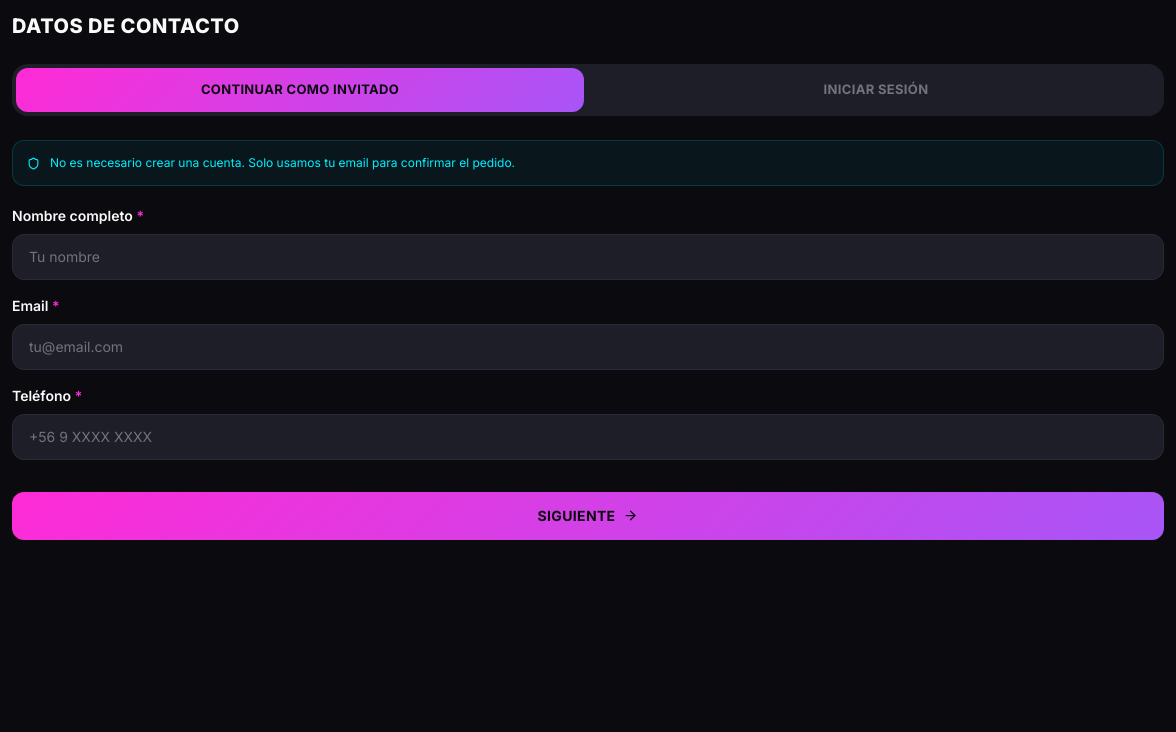
Test case: StepData (composed Data step) › returns from the address form to the contact form via Atrás
The image size is (1176, 732).
Type "Juan Pérez" into the field labelled "Nombre completo *" at (588, 256), box [12,234,1164,280]
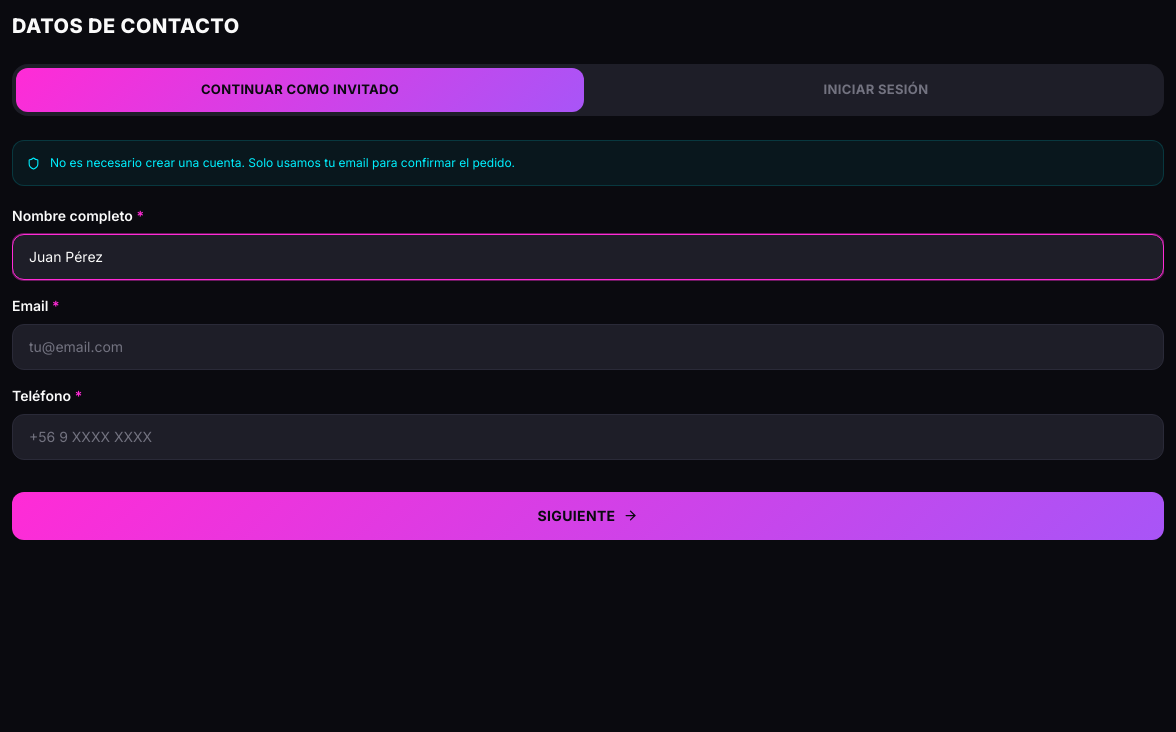
Type "juan@example.com" into the field labelled "Email *" at (588, 346), box [12,324,1164,370]
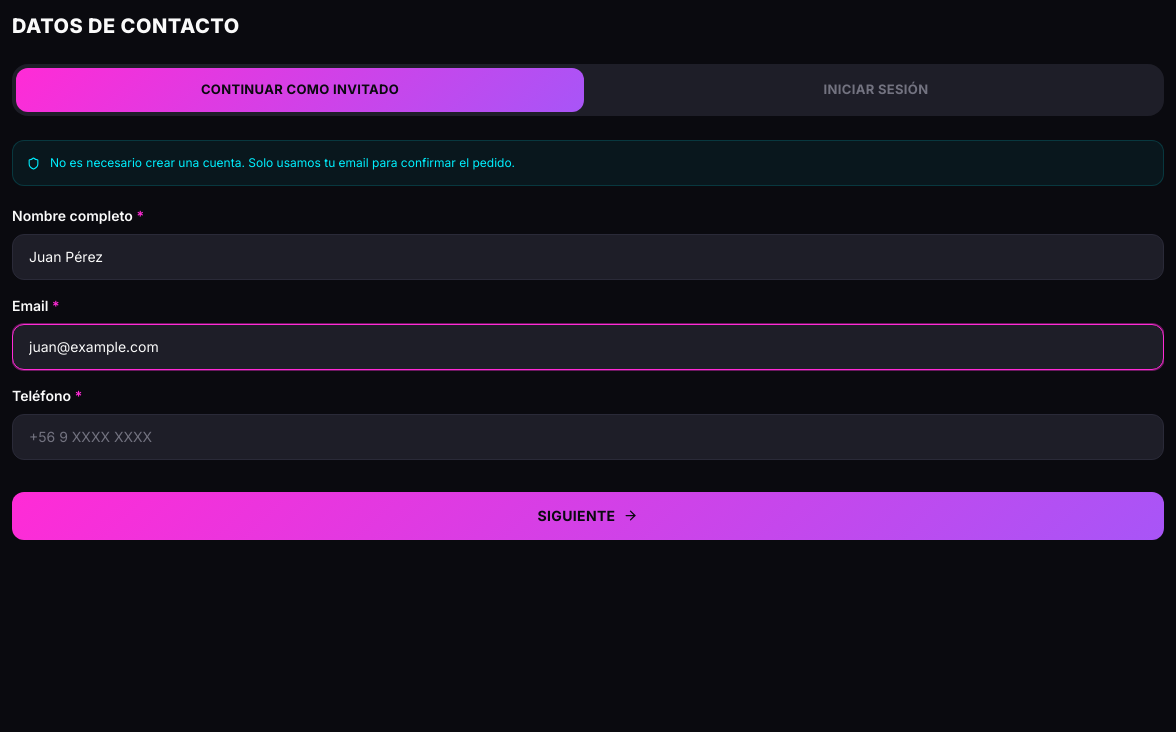
Type "912345678" into the field labelled "Teléfono *" at (588, 436), box [12,414,1164,460]
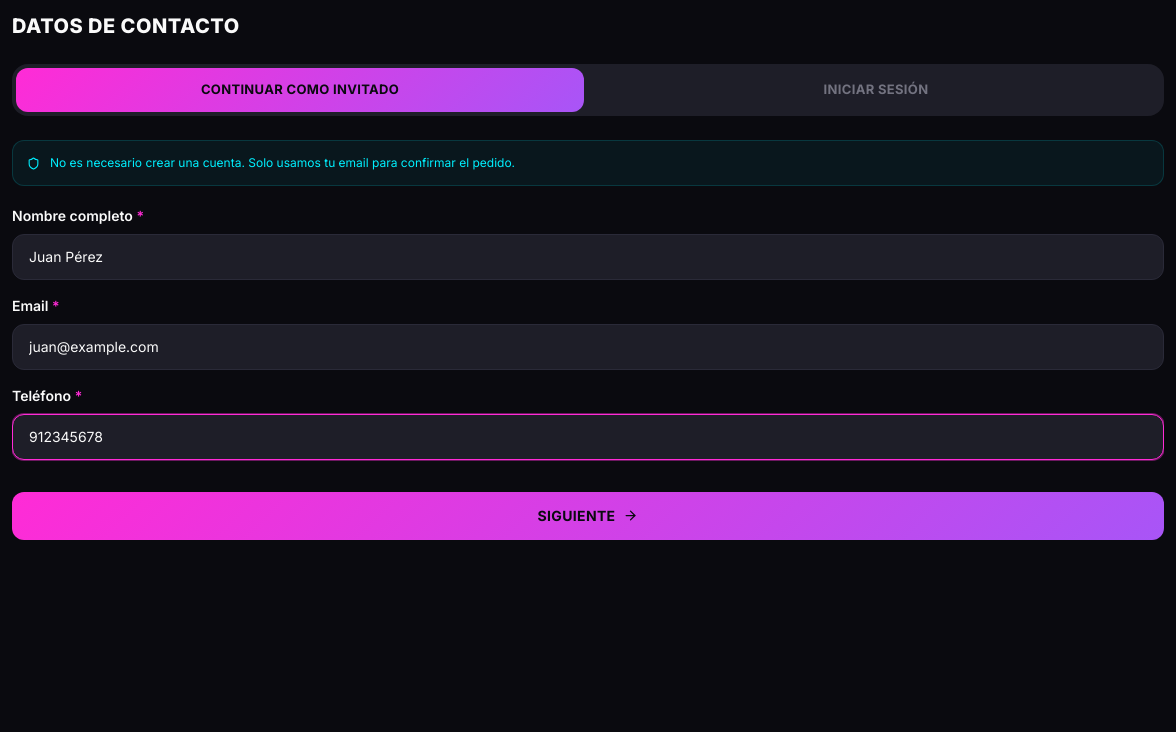
Click the button "Siguiente" at (588, 516), box [12,492,1164,540]
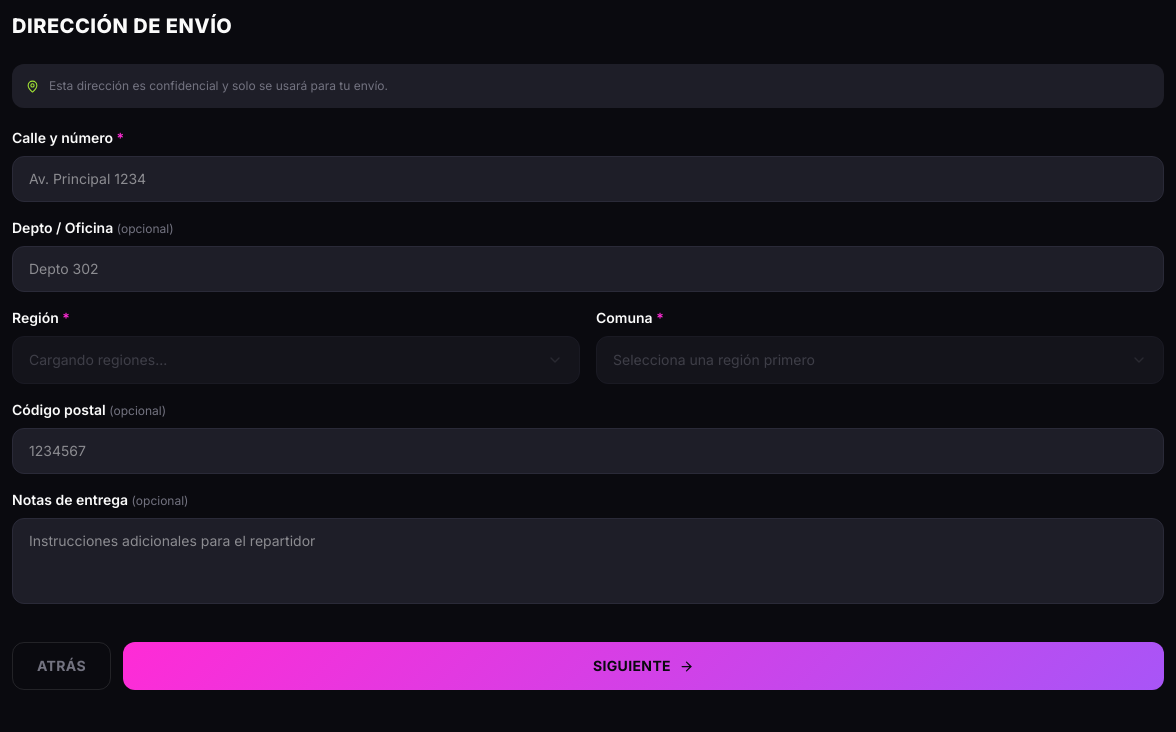
expect the element "Dirección de envío" is shown: met
Click the button "Atrás" at (61, 666), box [12,642,111,690]
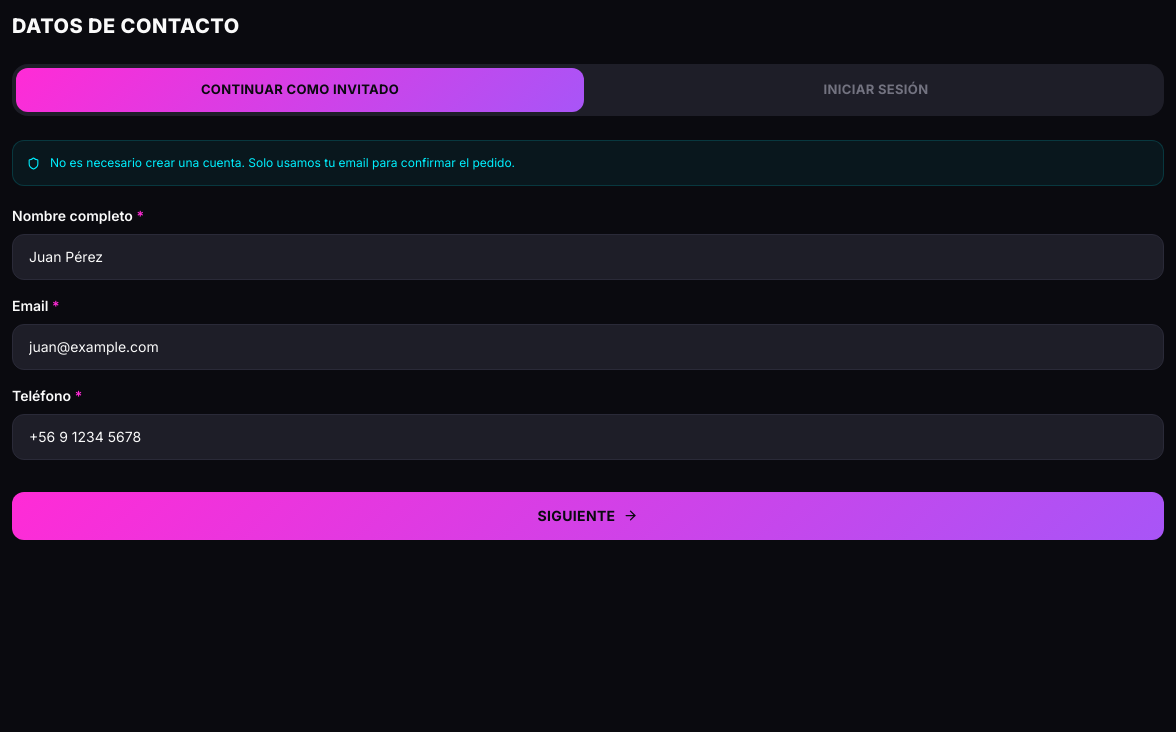
expect the element "Datos de contacto" is shown: met
expect the field labelled "Nombre completo *" holds "Juan Pérez": met, box [12,234,1164,280]
expect the field labelled "Teléfono *" holds "+56 9 1234 5678": met, box [12,414,1164,460]
